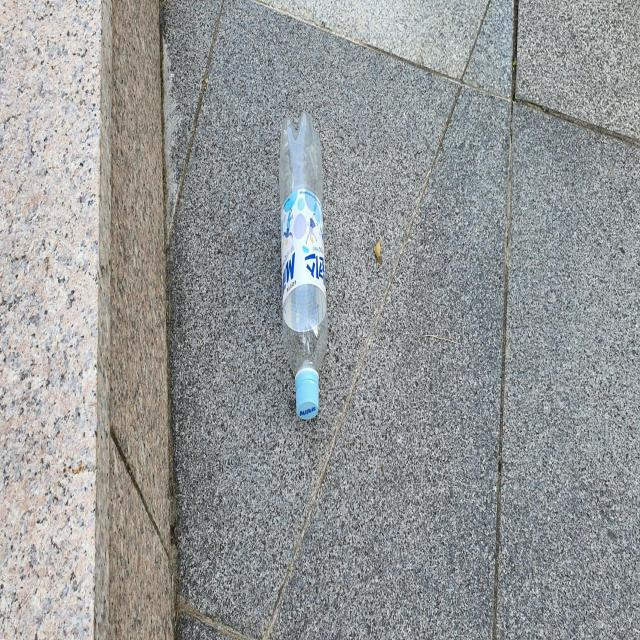plastic: (279, 110, 328, 420)
